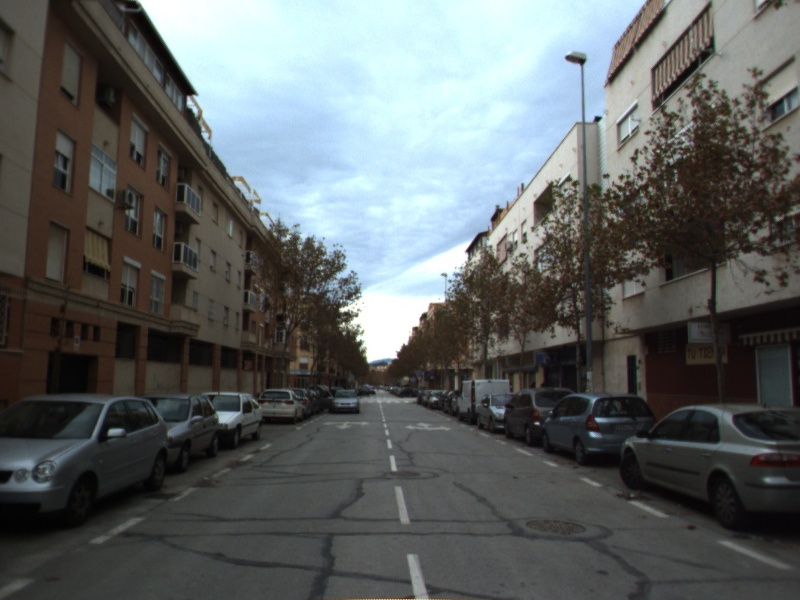STRAIGHT_LEFT_RIGHT: (403, 420, 453, 433)
